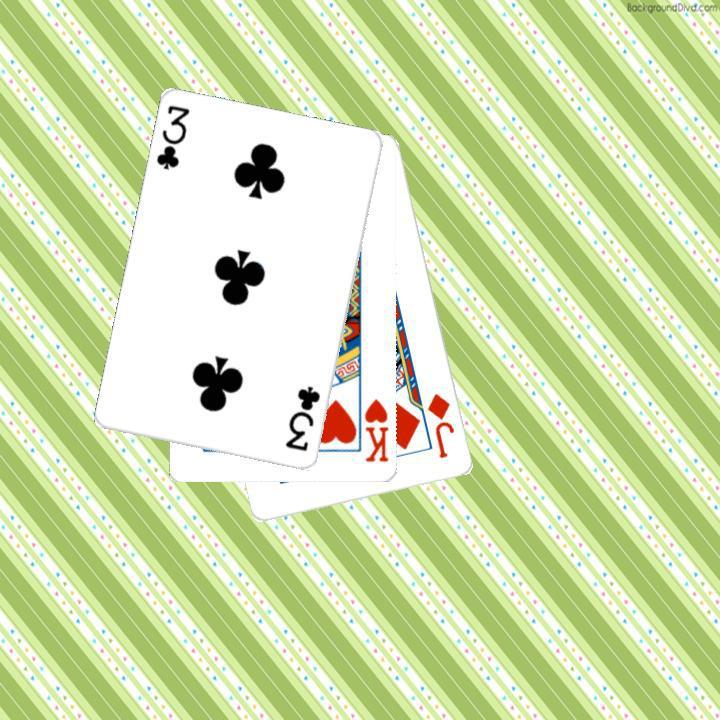3: (281, 382, 323, 454), (152, 101, 192, 173)
J: (423, 389, 457, 461)
K: (361, 395, 391, 464)
